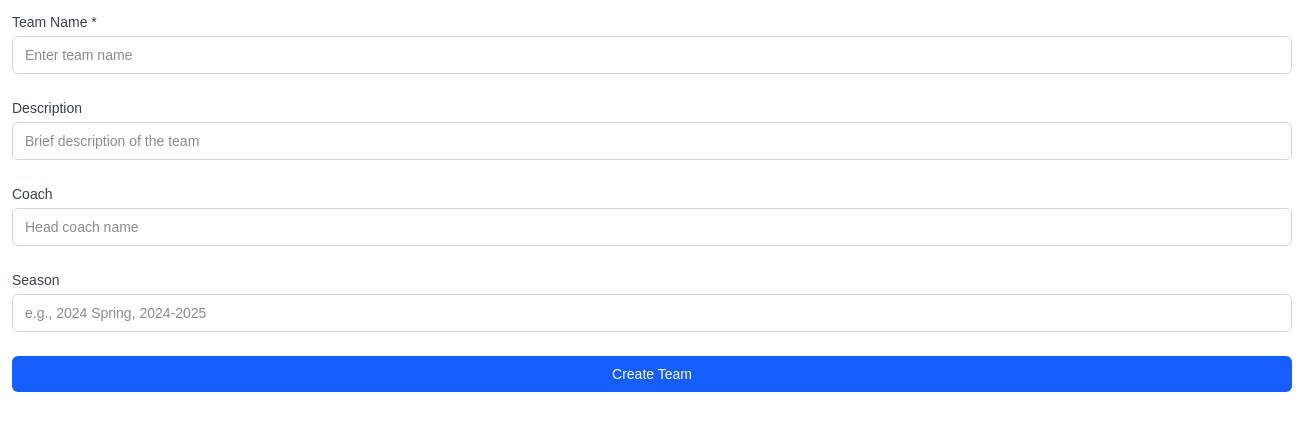
TeamForm › clears validation error when user starts typing
Click the button "Create Team" at point(652, 374), box [12,356,1292,392]
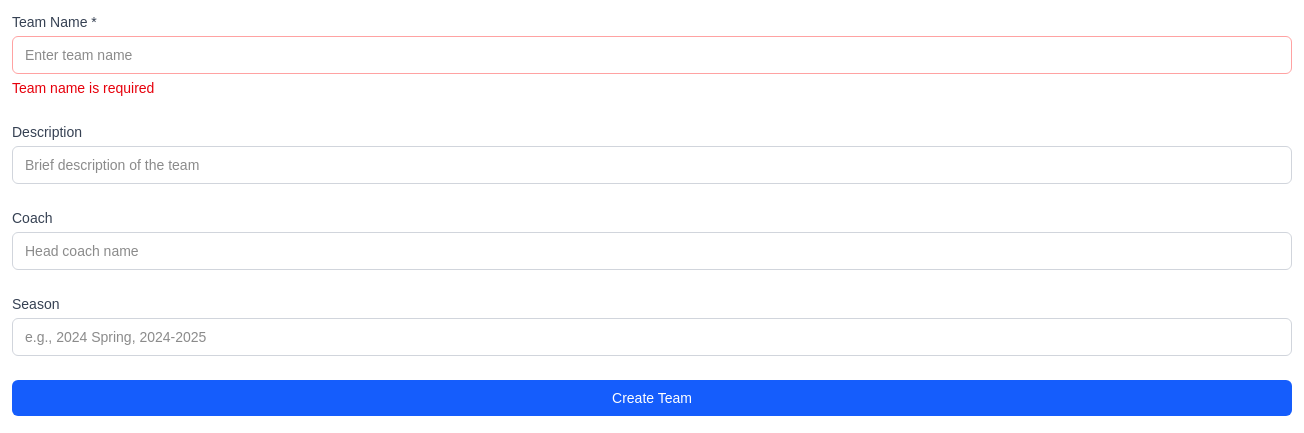
Now the text "Team name is required" is shown, box [12,80,154,96]
Type "New Team" into the field with placeholder "Enter team name" at point(652, 55), box [12,36,1292,74]
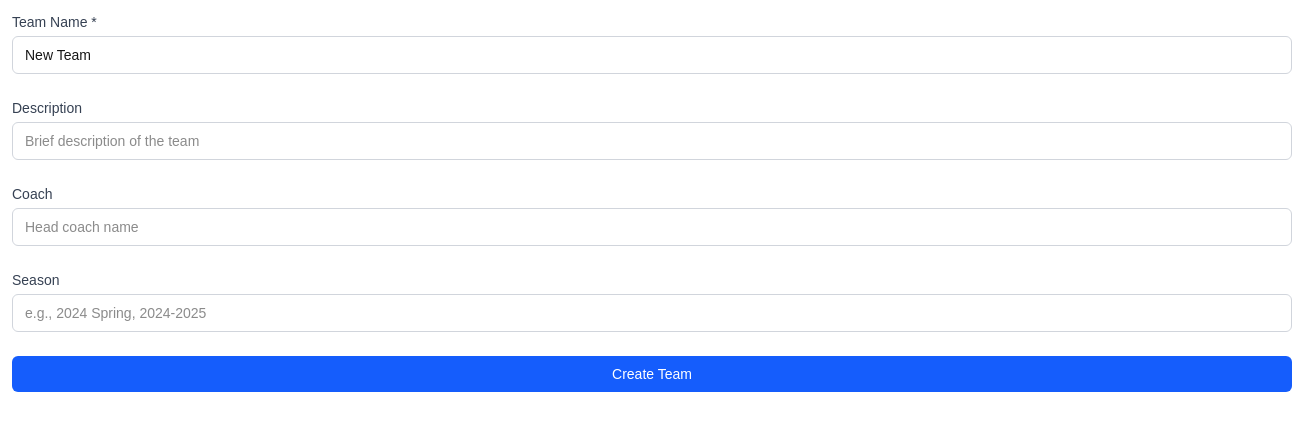
Now the text "Team name is required" is gone
